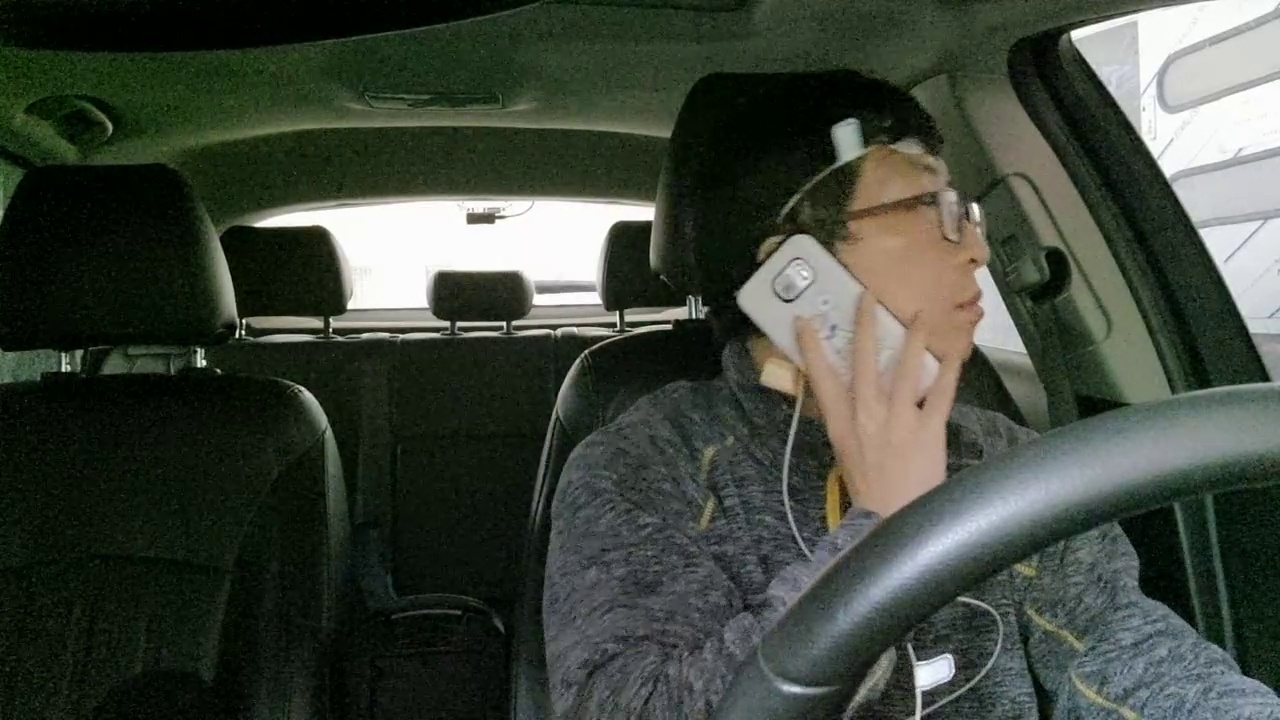phone: (704, 210, 963, 443)
